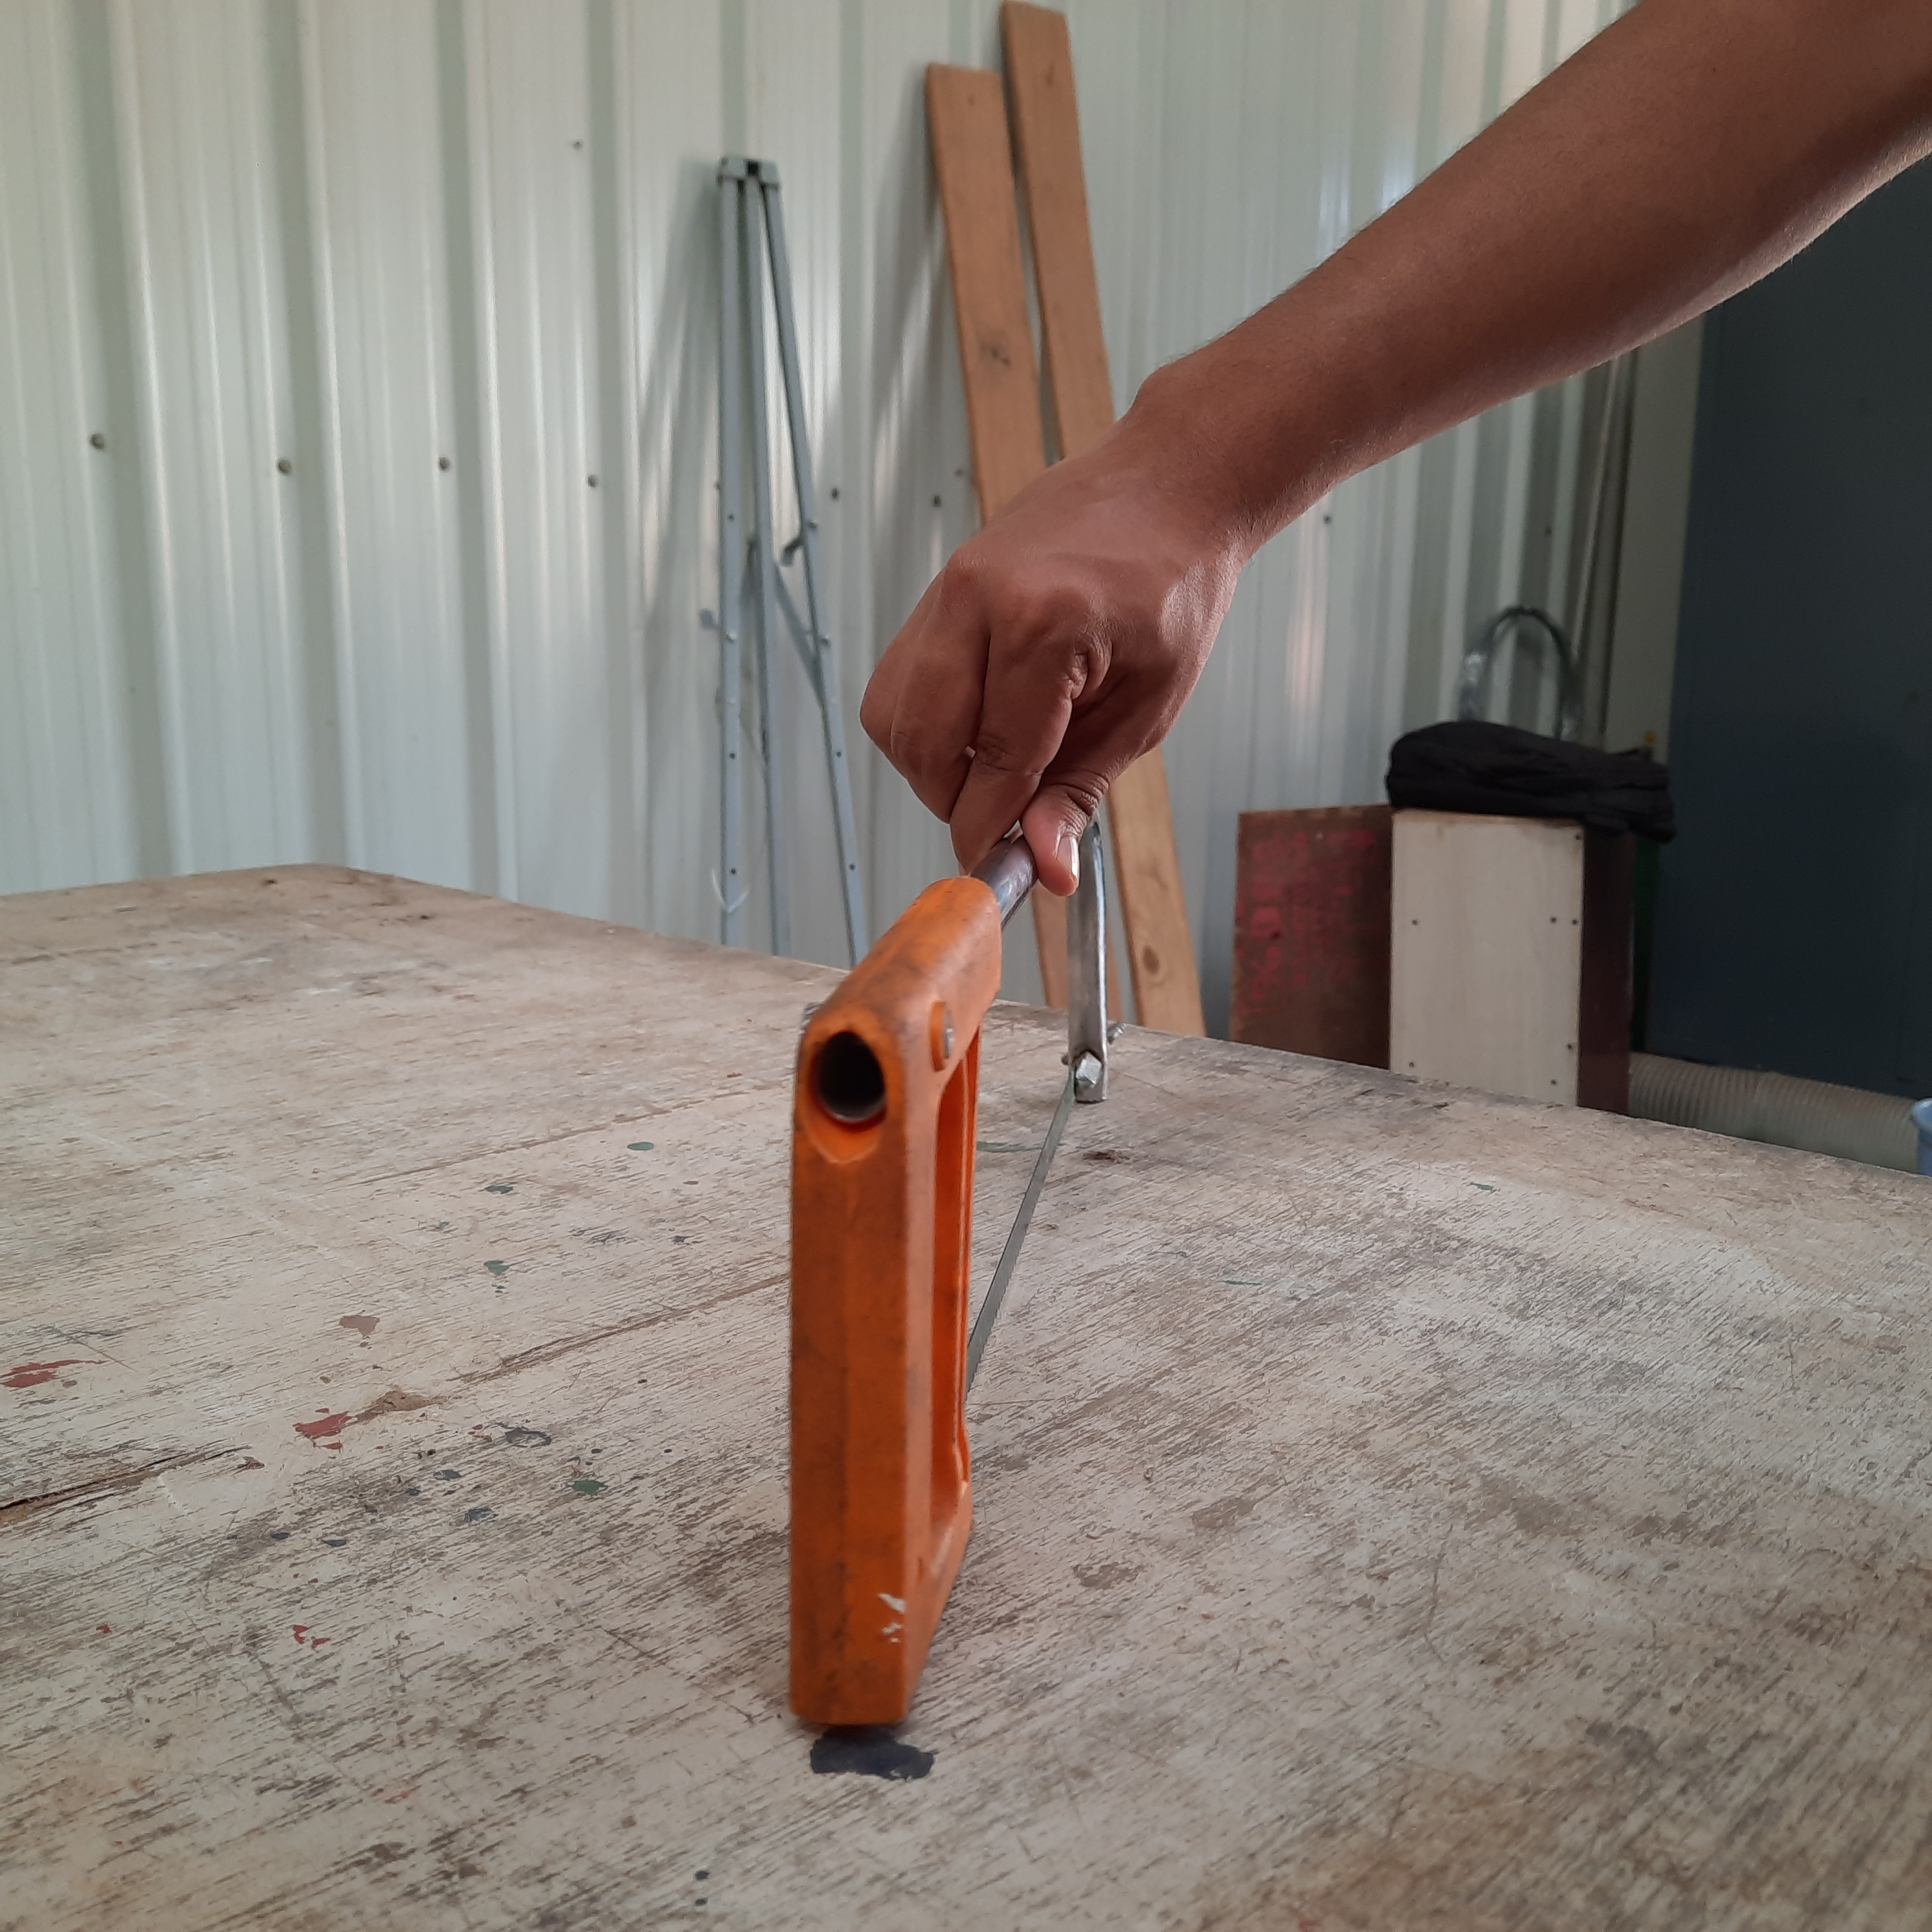Hexaframe: (709, 747, 1210, 1729)
